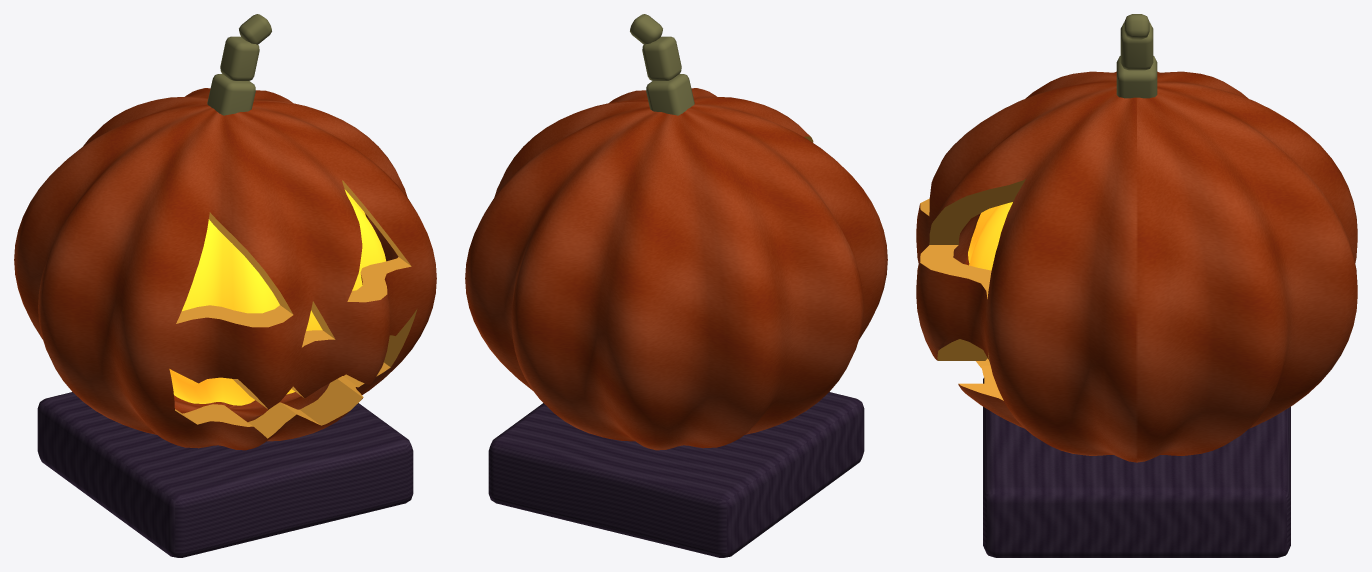
Rendered from 01_Bridge_Mount.glb.
The picture shows the model from 3 angles, left to right: view 1: azimuth 30°, elevation 25°; view 2: azimuth 150°, elevation 25°; view 3: azimuth 270°, elevation 25°; orthographic projection. The views are drawn at different scales.
Visible parts, largest first — view 1: 01_Pumpkin_Rind.001, 01_Cap.001, 01_Emissive_Interior.001, 01_Stem_1.001, 01_Stem_2.001, 01_Stem_3.001; view 2: 01_Pumpkin_Rind.001, 01_Cap.001, 01_Stem_1.001, 01_Stem_2.001, 01_Stem_3.001; view 3: 01_Pumpkin_Rind.001, 01_Cap.001, 01_Emissive_Interior.001, 01_Stem_1.001, 01_Stem_2.001, 01_Stem_3.001.
Part boxes in pixels (<box>): 01_Pumpkin_Rind.001: <box>14,88,436,450</box>; 01_Cap.001: <box>37,392,413,557</box>; 01_Emissive_Interior.001: <box>169,189,385,405</box>; 01_Stem_1.001: <box>207,74,255,115</box>; 01_Stem_2.001: <box>220,36,259,81</box>; 01_Stem_3.001: <box>239,14,271,44</box>; 01_Pumpkin_Rind.001: <box>465,88,887,450</box>; 01_Cap.001: <box>488,392,864,557</box>; 01_Stem_1.001: <box>646,74,694,115</box>; 01_Stem_2.001: <box>642,36,681,81</box>; 01_Stem_3.001: <box>630,14,662,44</box>; 01_Pumpkin_Rind.001: <box>916,71,1357,462</box>; 01_Cap.001: <box>983,378,1290,557</box>; 01_Emissive_Interior.001: <box>968,202,1012,270</box>; 01_Stem_1.001: <box>1116,56,1157,98</box>; 01_Stem_2.001: <box>1120,23,1153,70</box>; 01_Stem_3.001: <box>1124,14,1149,39</box>.
Bounding box in the file's own units: 0.8897 × 1.06 × 0.8462.
5 materials, 2 textured.
